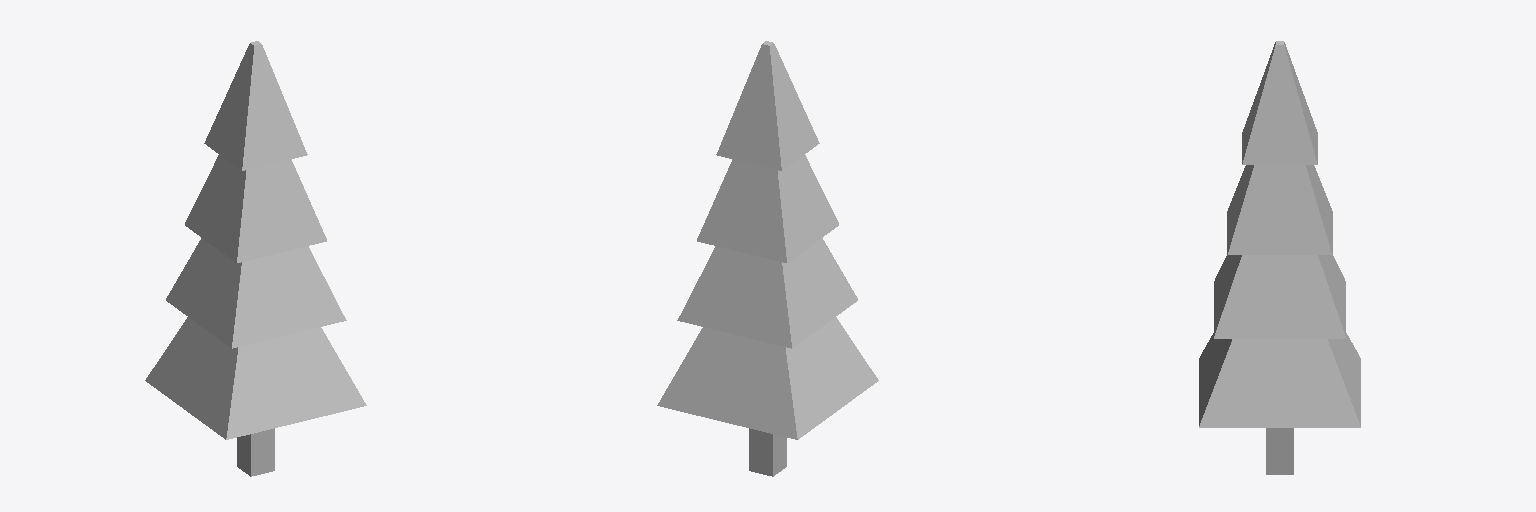
File: SM_Env_Tree_02.obj
3 renders of one model, left to right at view 1: azimuth 30°, elevation 25°; view 2: azimuth 150°, elevation 25°; view 3: azimuth 270°, elevation 25°, orthographic.
Parts seen in each view (by area): view 1: SM_Env_Tree_02:Mesh; view 2: SM_Env_Tree_02:Mesh; view 3: SM_Env_Tree_02:Mesh.
Part boxes in pixels (x1,y1,x2,y2): SM_Env_Tree_02:Mesh: (145, 41, 366, 476); SM_Env_Tree_02:Mesh: (657, 41, 878, 476); SM_Env_Tree_02:Mesh: (1199, 41, 1360, 474).
Bounding box in the file's own units: 3.57 × 10.3 × 3.57.